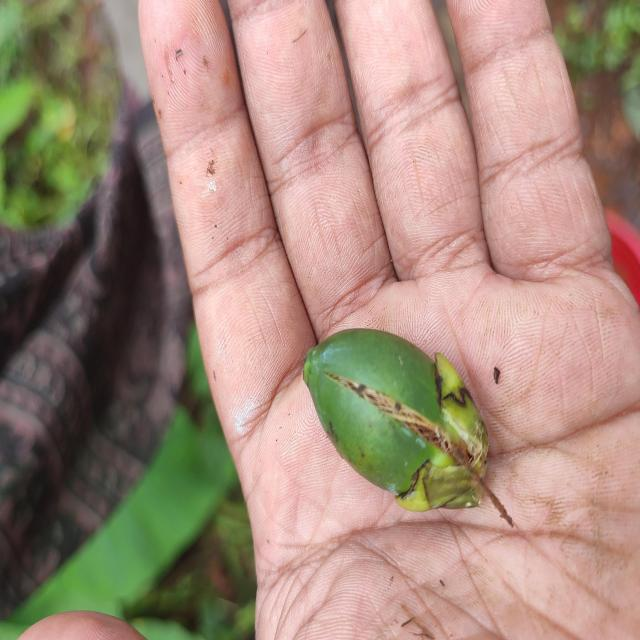damaged: (300, 329, 490, 515)
